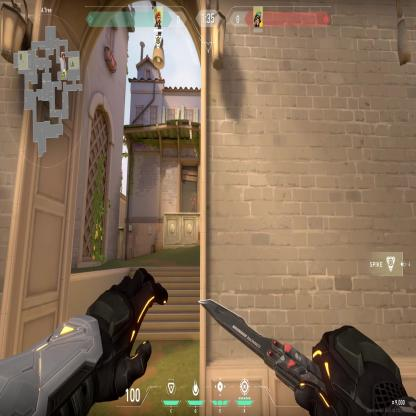enemy: (190, 191, 197, 214)
